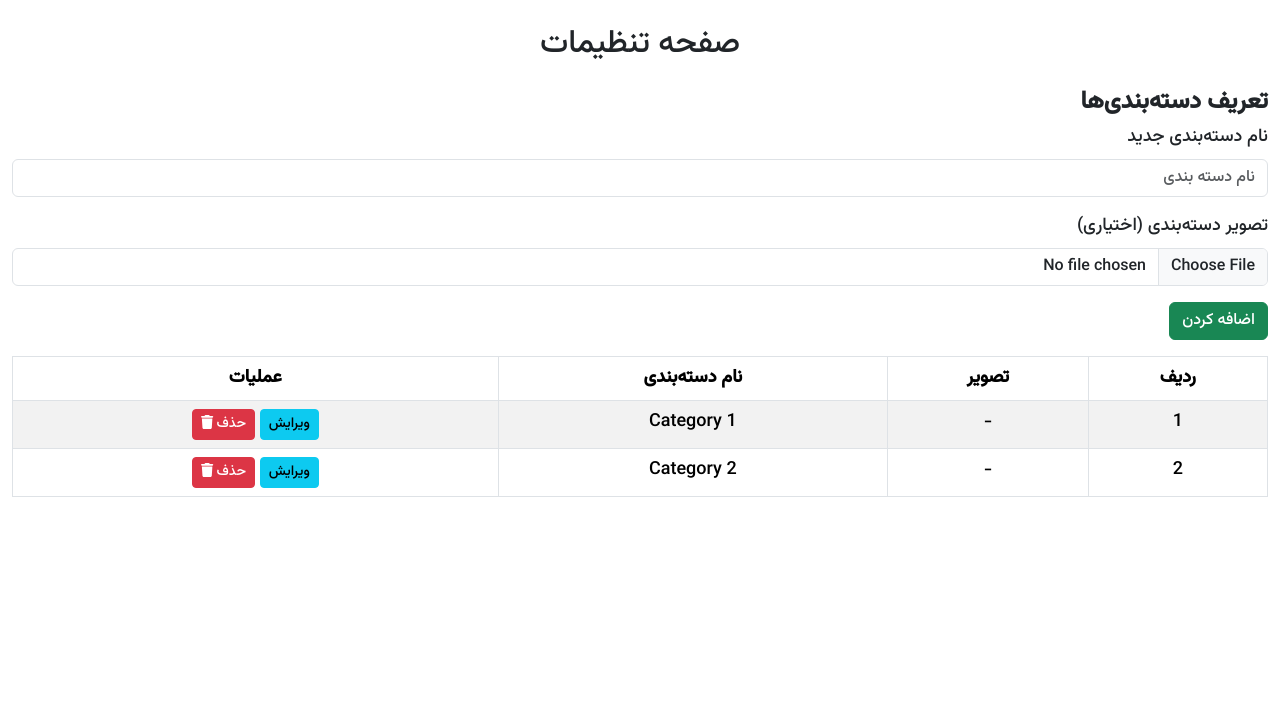
SettingsPage Component › opens and closes edit modal
The image size is (1280, 720).
Expected: the text "Category 1" is shown, 498,401 -> 888,449
Click the button "ویرایش" in the row of "Category 1".
click(289, 425)  # box 260,409 -> 319,440
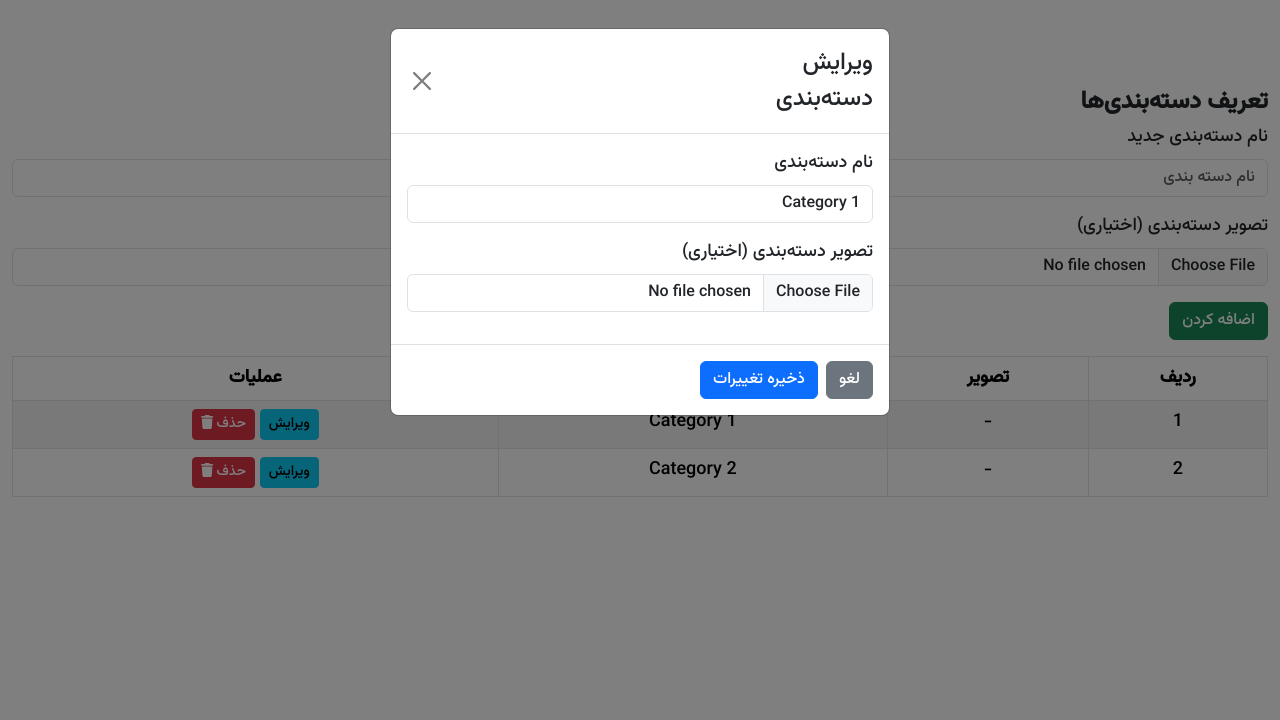
Expected: the text "ویرایش دسته‌بندی" is shown, 776,44 -> 873,118
